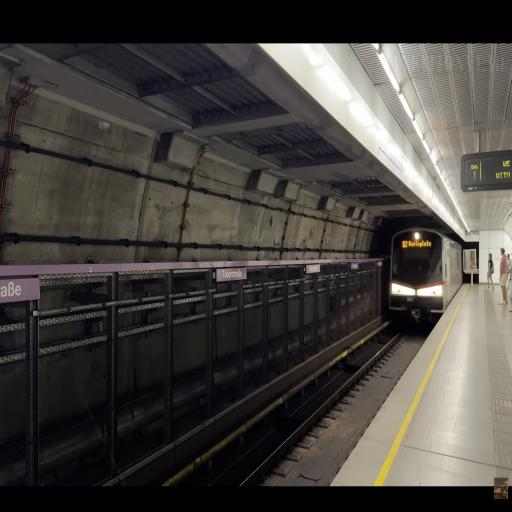V-Wagen: (388, 225, 462, 320)
